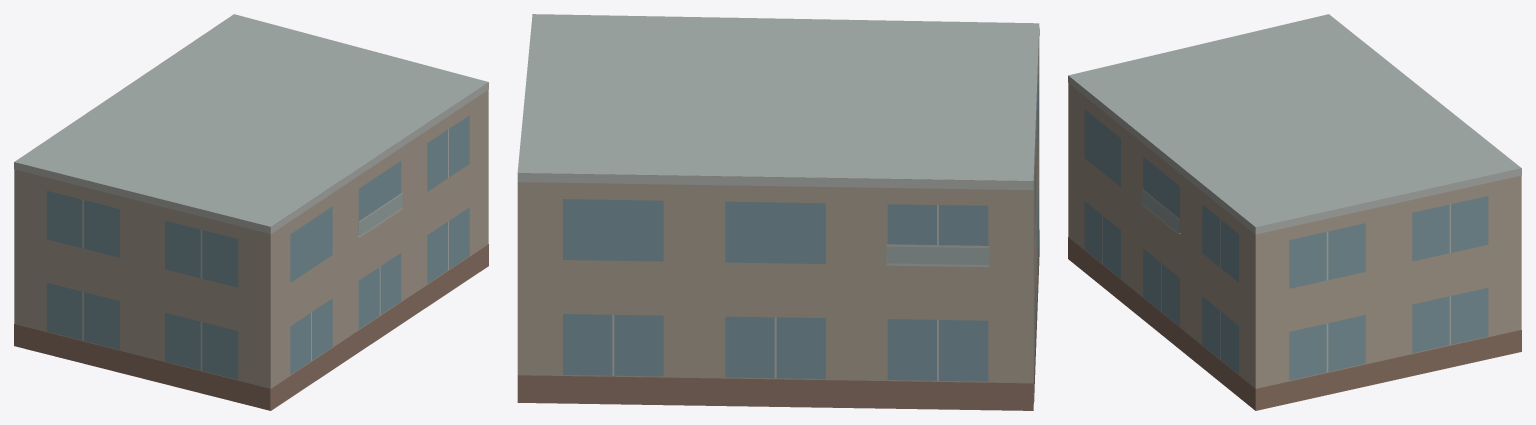
Rendered from survey-upis-32966882.glb.
3 renders of one model, left to right at view 1: azimuth 30°, elevation 25°; view 2: azimuth 150°, elevation 25°; view 3: azimuth 270°, elevation 25°, orthographic. The views are drawn at different scales.
Visible parts, largest first — view 1: survey-upis-32966882.tmp; view 2: survey-upis-32966882.tmp; view 3: survey-upis-32966882.tmp.
Boxes of the visible parts, left/top/right/bottom form: survey-upis-32966882.tmp: left=14, top=14, right=488, bottom=410; survey-upis-32966882.tmp: left=517, top=14, right=1039, bottom=410; survey-upis-32966882.tmp: left=1068, top=14, right=1521, bottom=410.
Size of the model in its own units: 15.2 by 6.1 by 13.67.
